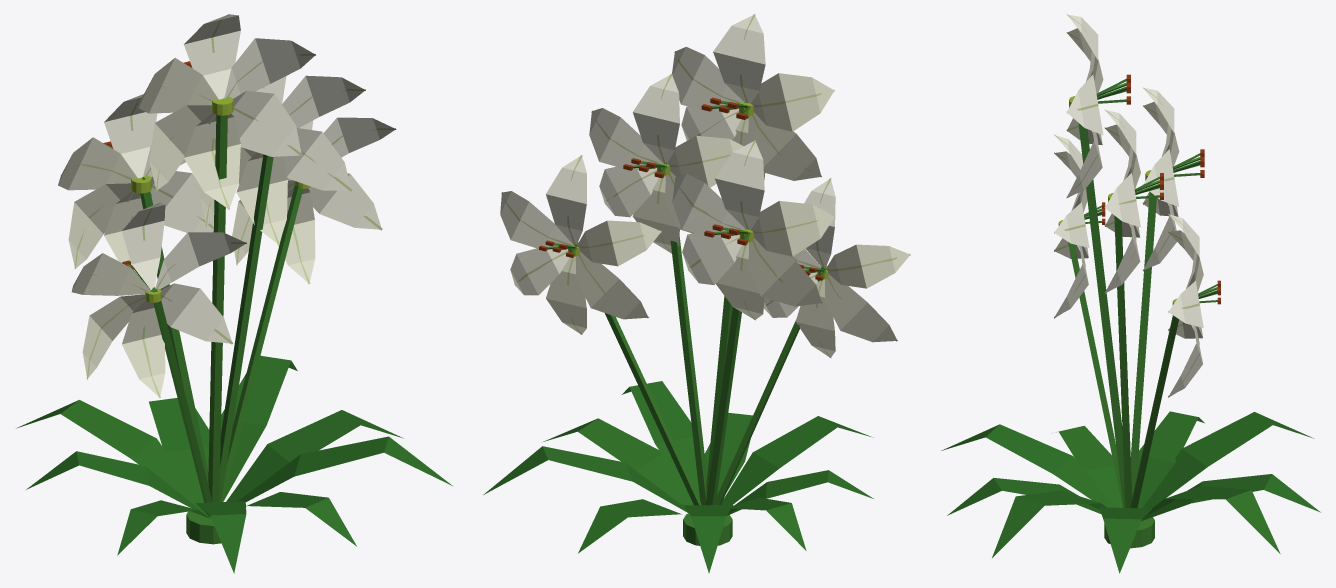
The model's file is SM_Plant_Lily_01.obj.
3 views of the same model, side by side, from view 1: azimuth 30°, elevation 25°; view 2: azimuth 150°, elevation 25°; view 3: azimuth 270°, elevation 25° (orthographic). The views are drawn at different scales.
Parts seen in each view (by area): view 1: SM_Plant_Lily_01; view 2: SM_Plant_Lily_01; view 3: SM_Plant_Lily_01.
Part boxes in pixels (box(x1,y1,x2,y2)): SM_Plant_Lily_01: box(16, 14, 452, 573); SM_Plant_Lily_01: box(483, 14, 910, 573); SM_Plant_Lily_01: box(941, 14, 1320, 573).
Size of the model in its own units: 65.89 by 89.65 by 60.25.
